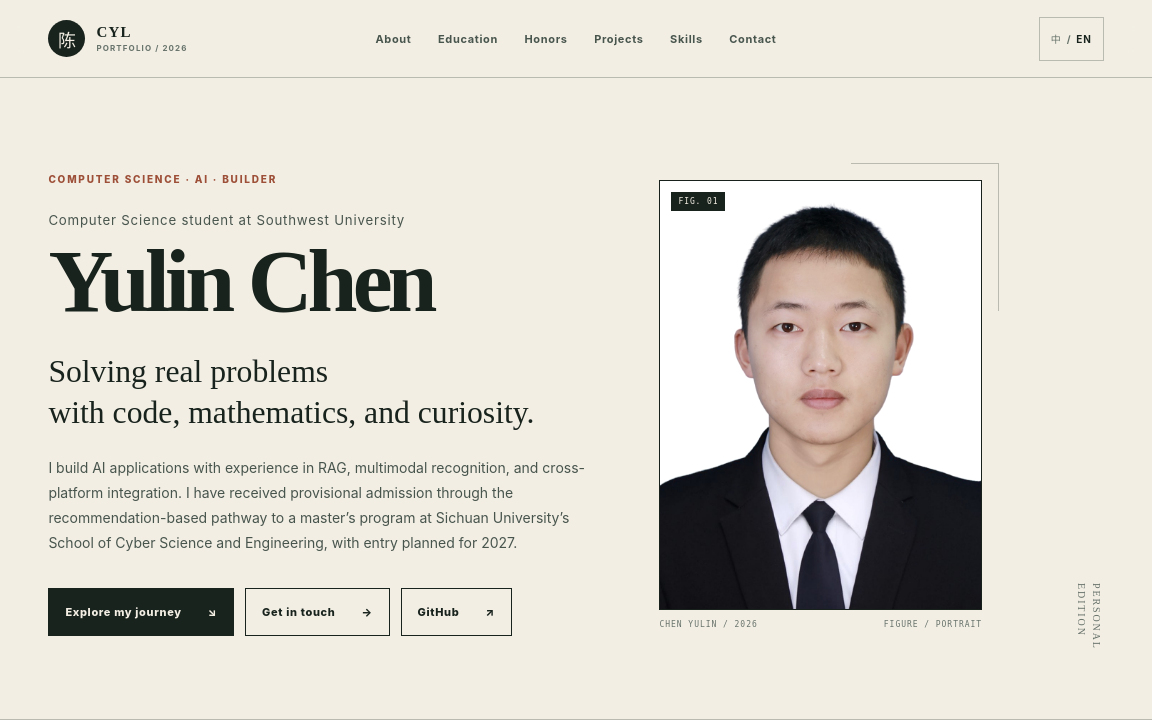
portfolio locale behavior › returns to English when the page is loaded again
Later steps or results of the test are not shown.
Click the button with aria-label "切换至中文".
click(1071, 38)  # box [1039, 16, 1104, 60]
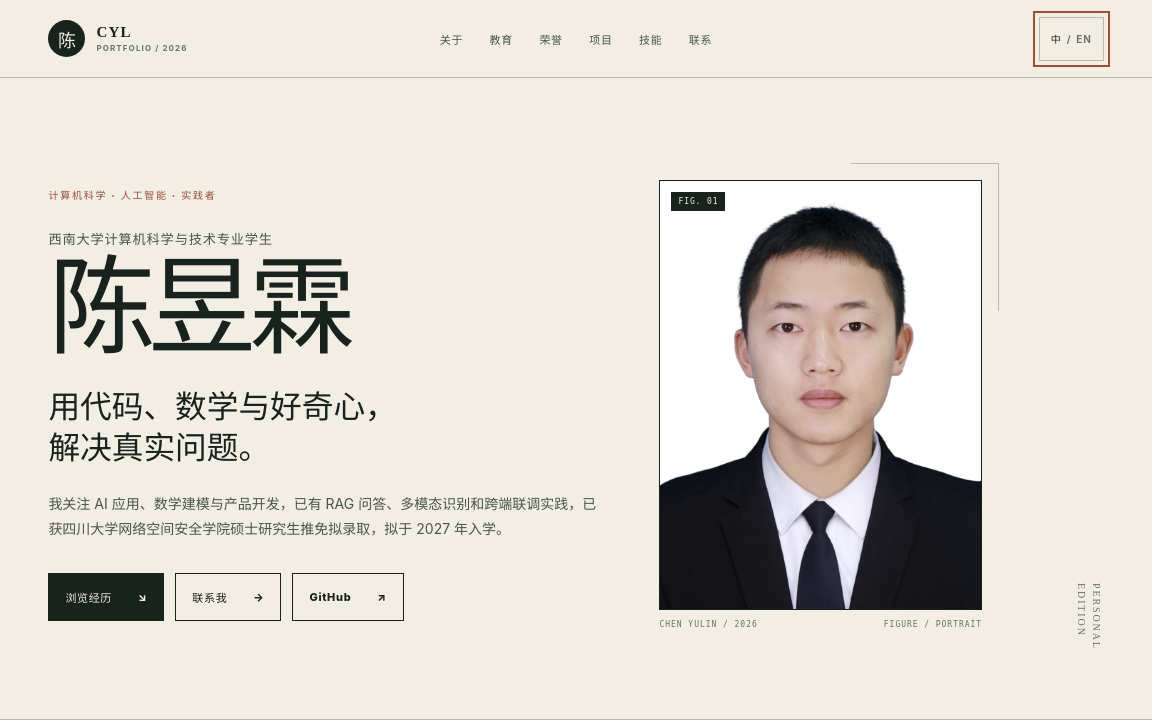
Result: the heading "陈昱霖" is shown at [48, 250, 349, 368]
